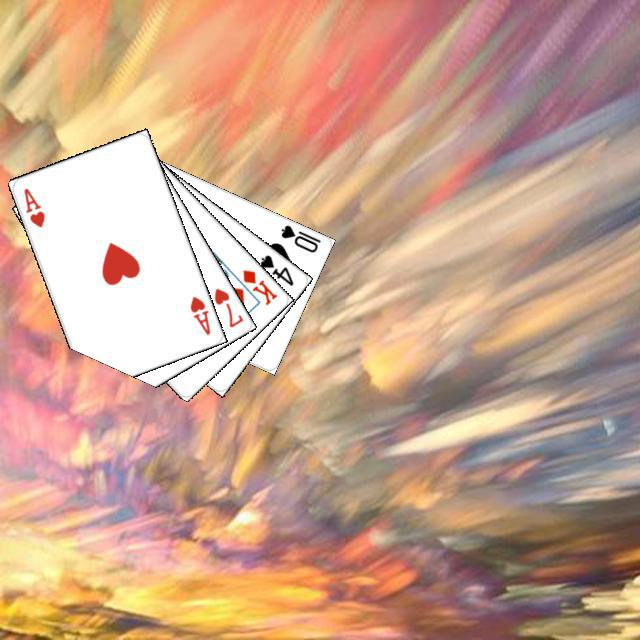10s: (276, 220, 323, 254)
4s: (255, 250, 295, 288)
7h: (209, 283, 245, 329)
Ah: (19, 183, 46, 229), (185, 291, 212, 336)
Kd: (238, 265, 279, 307)
